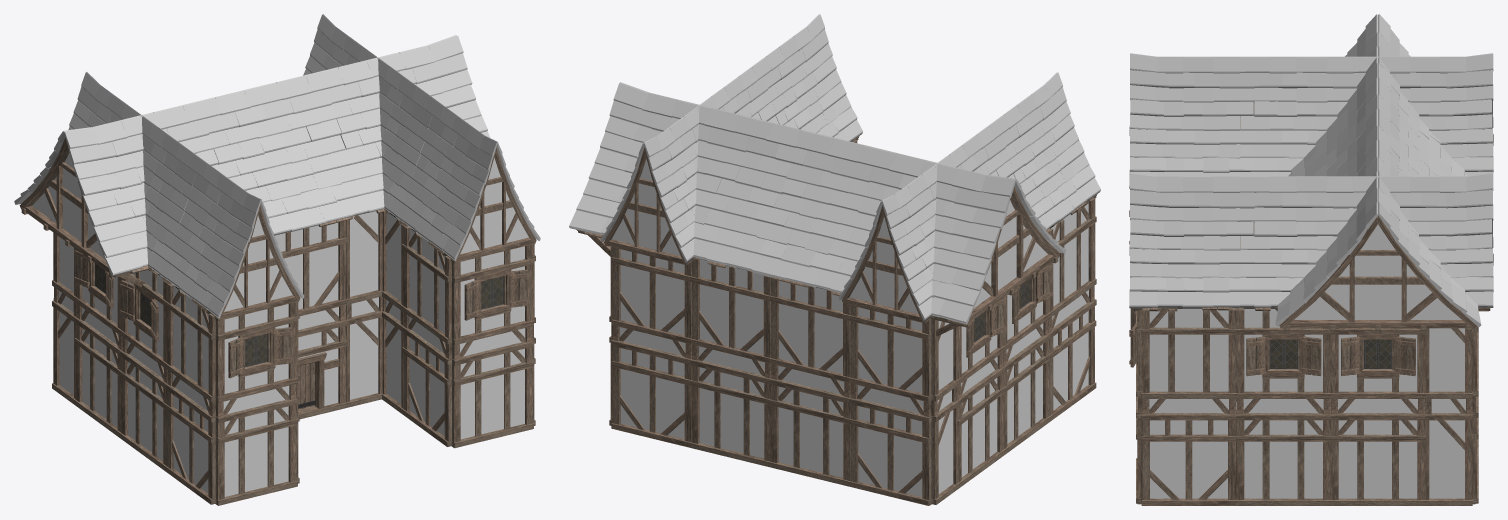
The model's file is House_1A23.fbx.
The picture shows the model from 3 angles, left to right: view 1: azimuth 30°, elevation 25°; view 2: azimuth 150°, elevation 25°; view 3: azimuth 270°, elevation 25°; orthographic projection. The views are drawn at different scales.
Visible parts, largest first — view 1: House_1A23, Door_A; view 2: House_1A23; view 3: House_1A23.
Part boxes in pixels (bbox=[...]): House_1A23: bbox=[14, 14, 540, 505]; Door_A: bbox=[297, 362, 315, 409]; House_1A23: bbox=[569, 14, 1100, 505]; House_1A23: bbox=[1129, 14, 1493, 505].
Size of what is drawn, in the model's own units: 2004 by 1454 by 1542.
